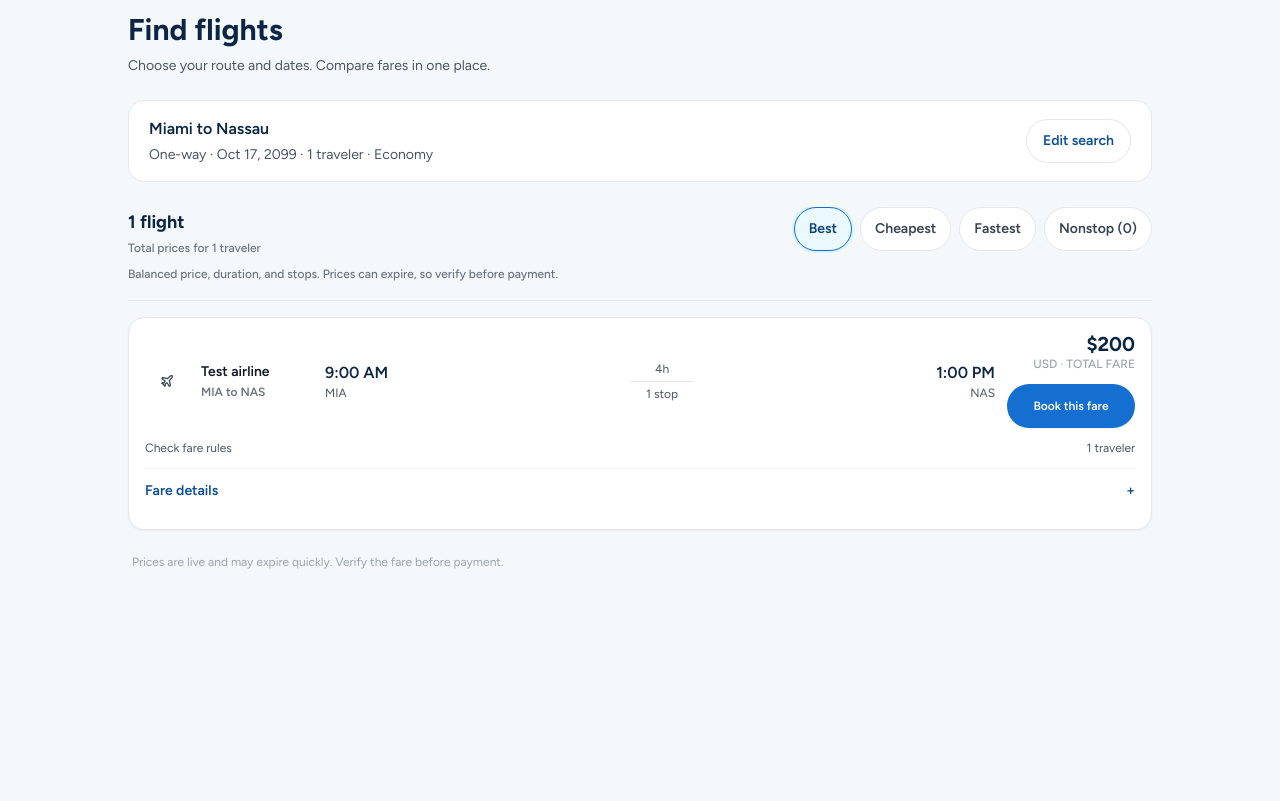
Test: FlightSearchClient marketplace layout › filter recovery and draft edits retain the confirmed result context
Expected: the heading "1 flight" is shown, left=128, top=211, right=184, bottom=233
Click the button "Nonstop (0)" at [1098, 229], box left=1044, top=207, right=1152, bottom=251
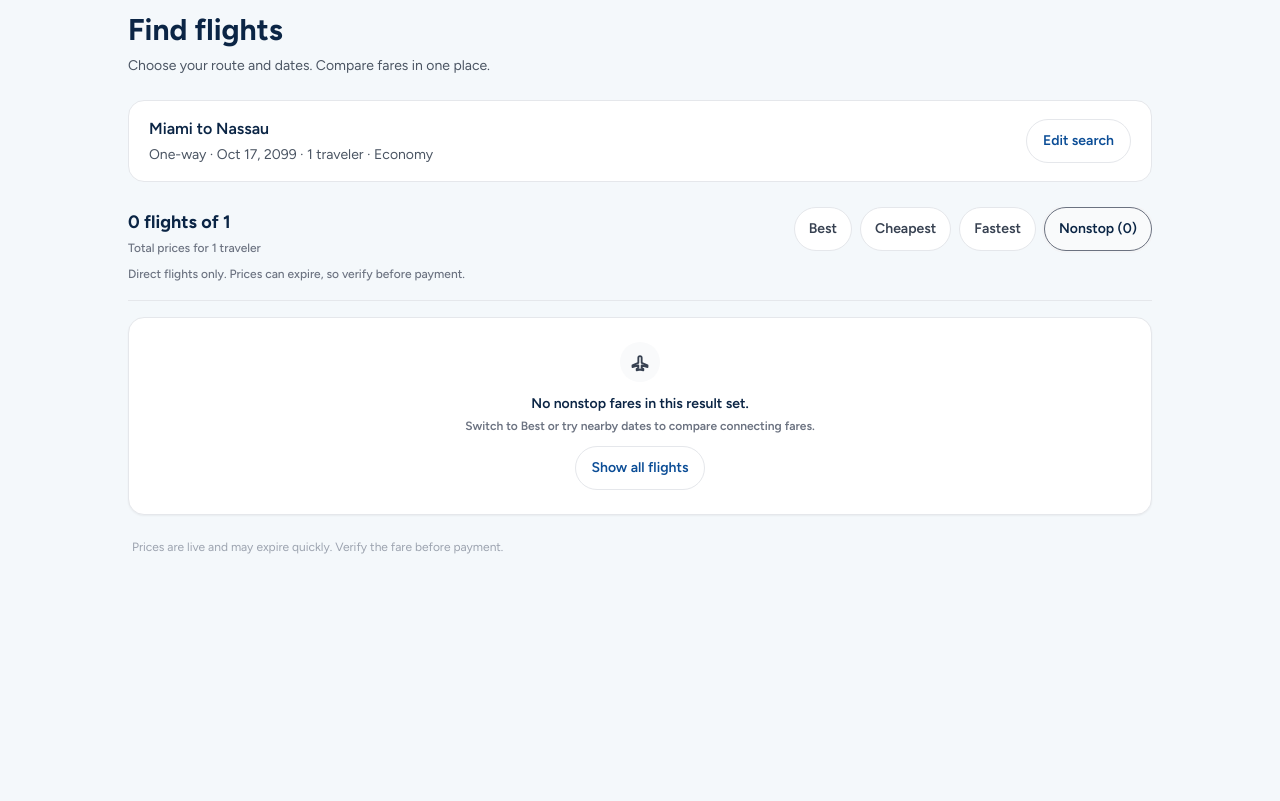
Now the text "No nonstop fares in this result set." is shown, box left=531, top=395, right=749, bottom=412
Click the button "Show all flights" at [640, 468], box left=574, top=446, right=705, bottom=490
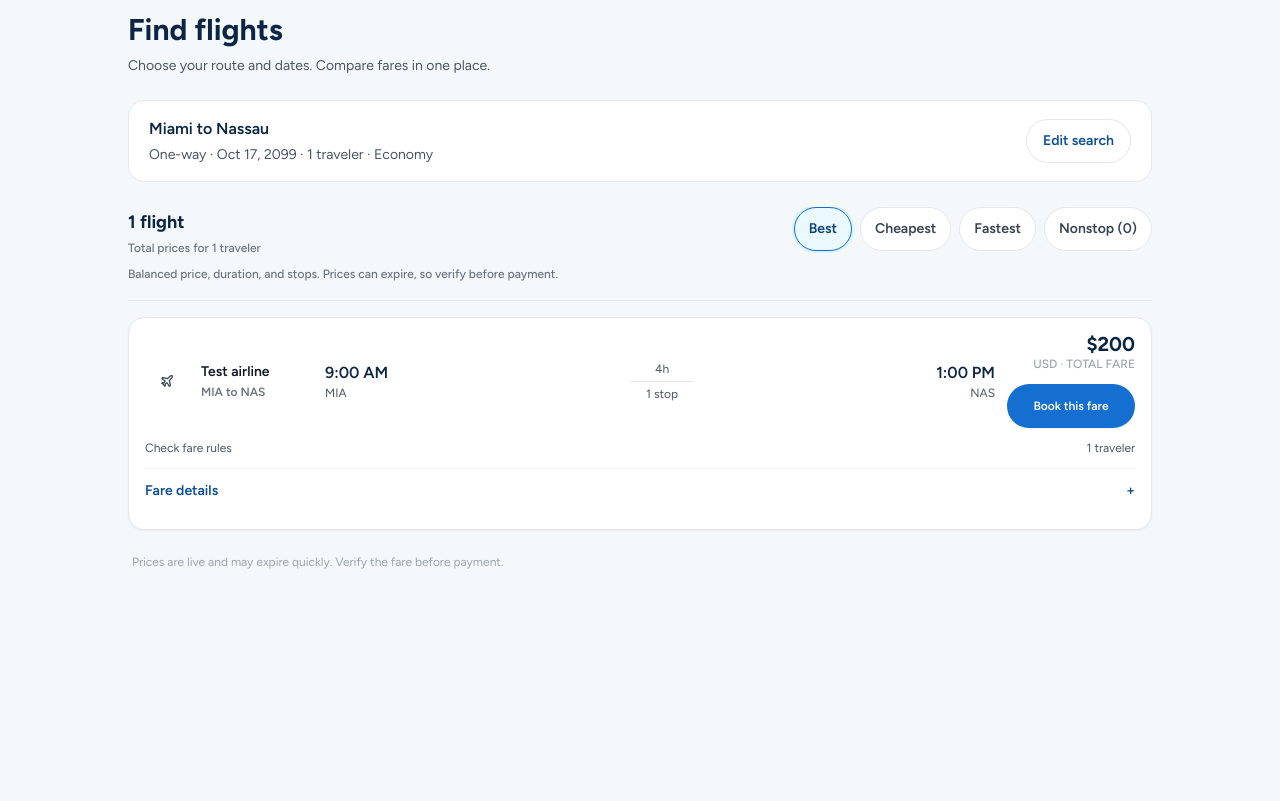
Click the button "Edit search" at [1078, 141], box left=1026, top=119, right=1131, bottom=163
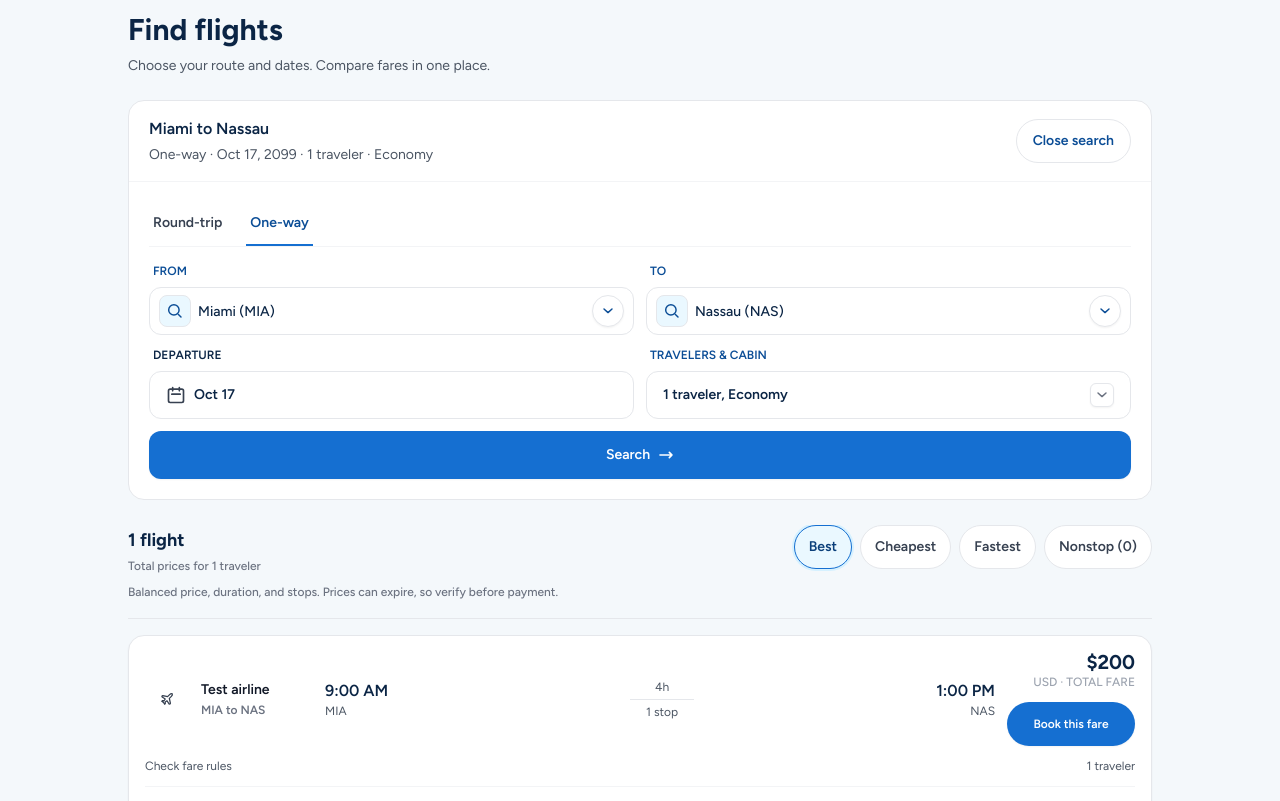
Replace the text in the dropdown labelled "From" with "Toronto" at [392, 311], box left=149, top=287, right=634, bottom=335
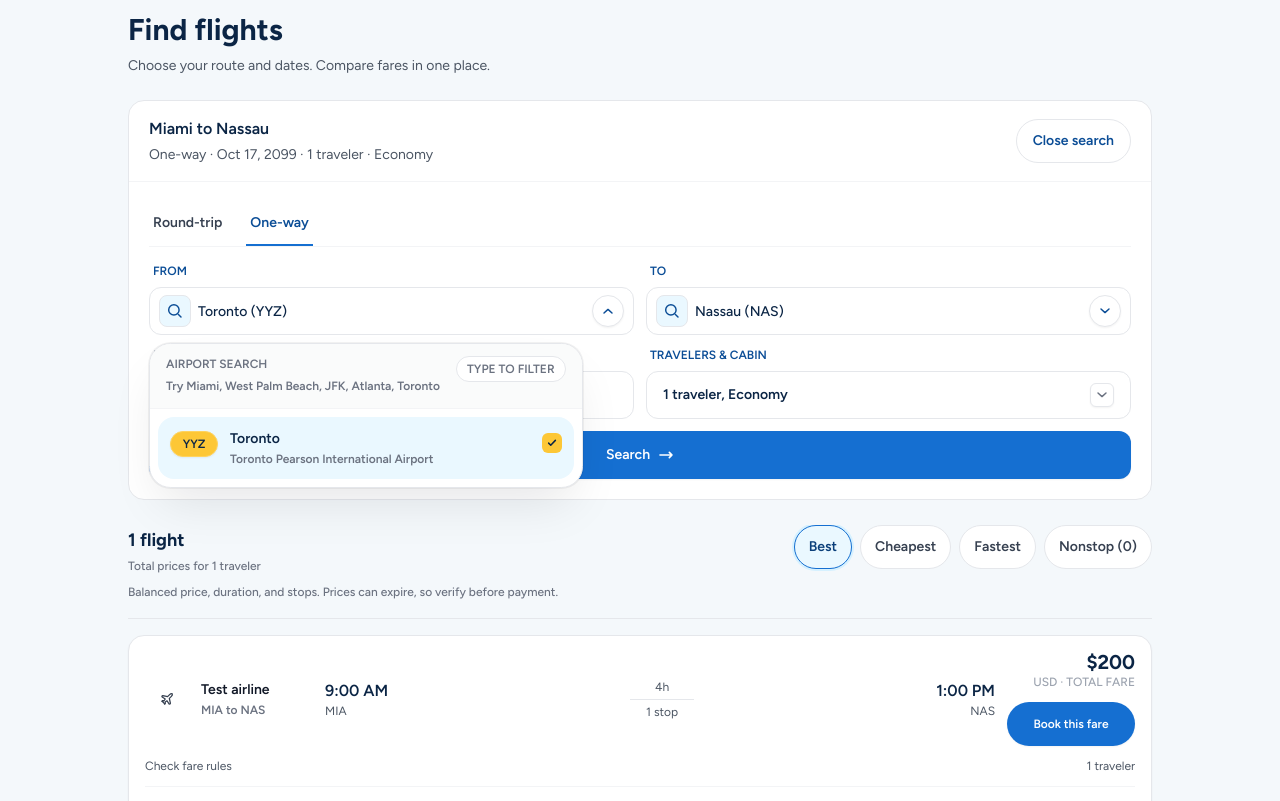
Click the button "Close search" at [1073, 141], box left=1016, top=119, right=1131, bottom=163
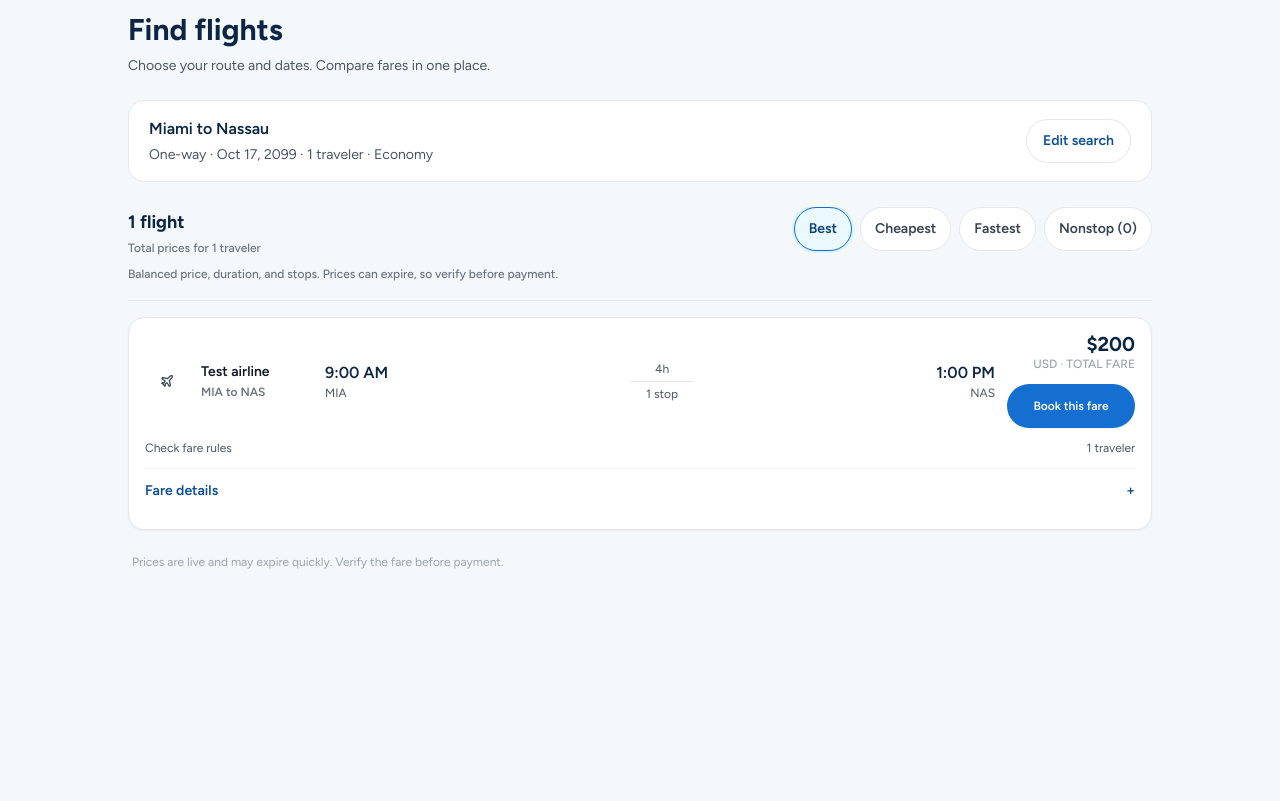
Expected: the text "Miami to Nassau" is shown, left=149, top=119, right=269, bottom=138
Click the button "Edit search" at [1078, 141], box left=1026, top=119, right=1131, bottom=163
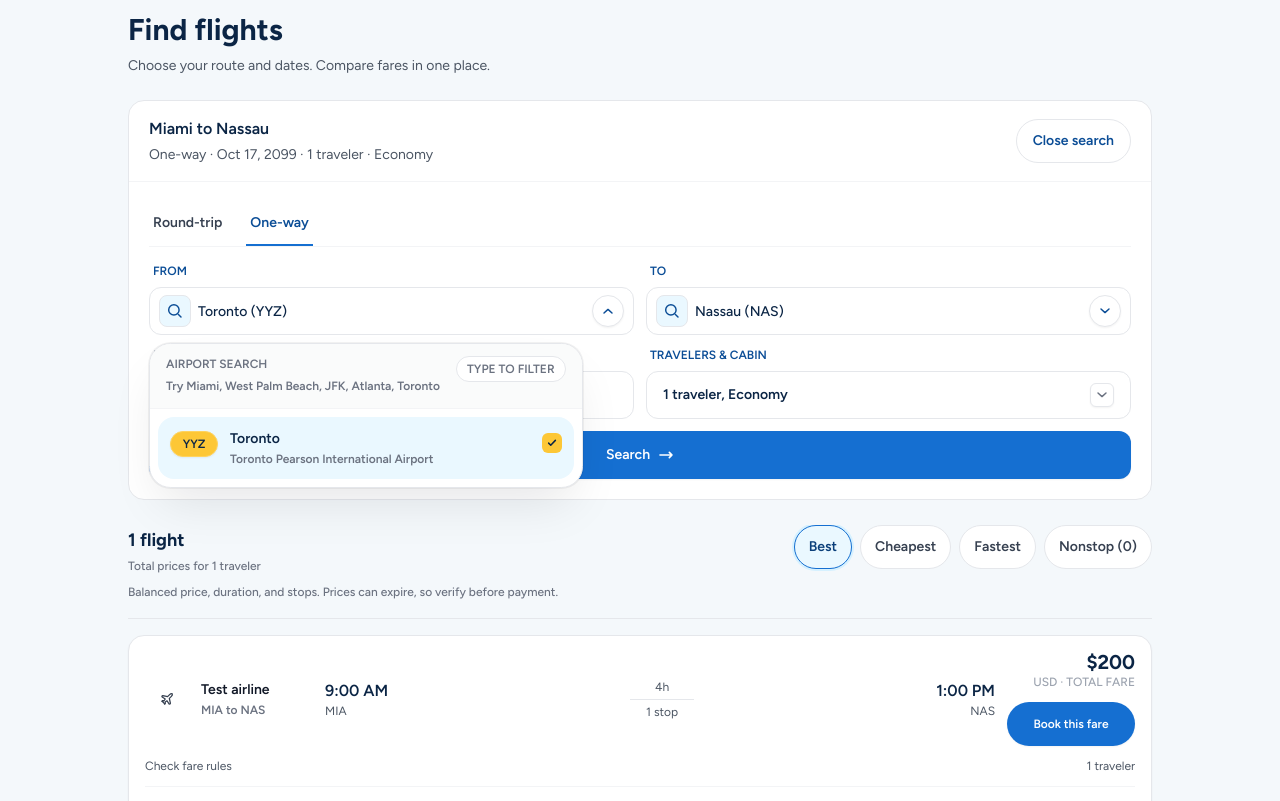
Now the dropdown labelled "From" holds "Toronto (YYZ)", box left=149, top=287, right=634, bottom=335
